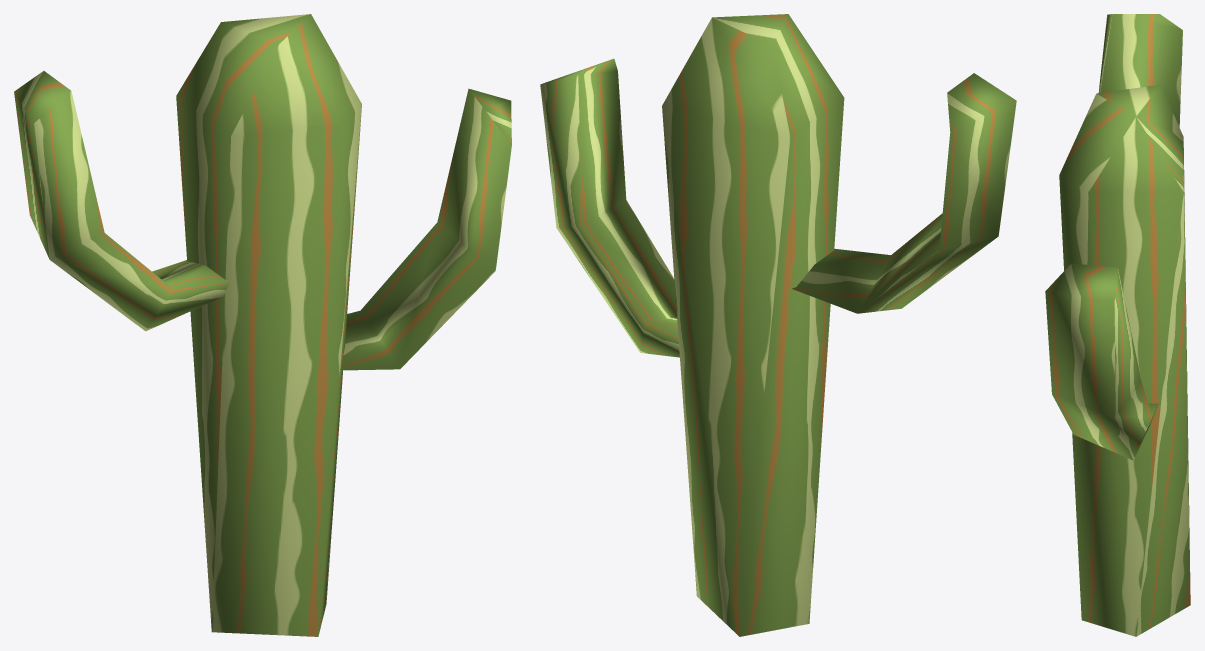
Rendered from cactus01low.FBX.
The picture shows the model from 3 angles, left to right: view 1: azimuth 30°, elevation 25°; view 2: azimuth 150°, elevation 25°; view 3: azimuth 270°, elevation 25°; orthographic projection. The views are drawn at different scales.
Visible parts, largest first — view 1: cactus01, kqtus02, kqtus01; view 2: cactus01, kqtus02, kqtus01; view 3: cactus01, kqtus02, kqtus01.
Boxes of the visible parts, x1,y1,x2,y2 form: cactus01: (176, 14, 361, 636); kqtus02: (340, 88, 511, 370); kqtus01: (14, 71, 230, 331); cactus01: (662, 14, 844, 636); kqtus02: (540, 58, 679, 357); kqtus01: (792, 73, 1016, 313); cactus01: (1059, 84, 1190, 636); kqtus02: (1045, 263, 1158, 460); kqtus01: (1098, 14, 1182, 126).
Size of the model in its own units: 291 by 342 by 87.79.
